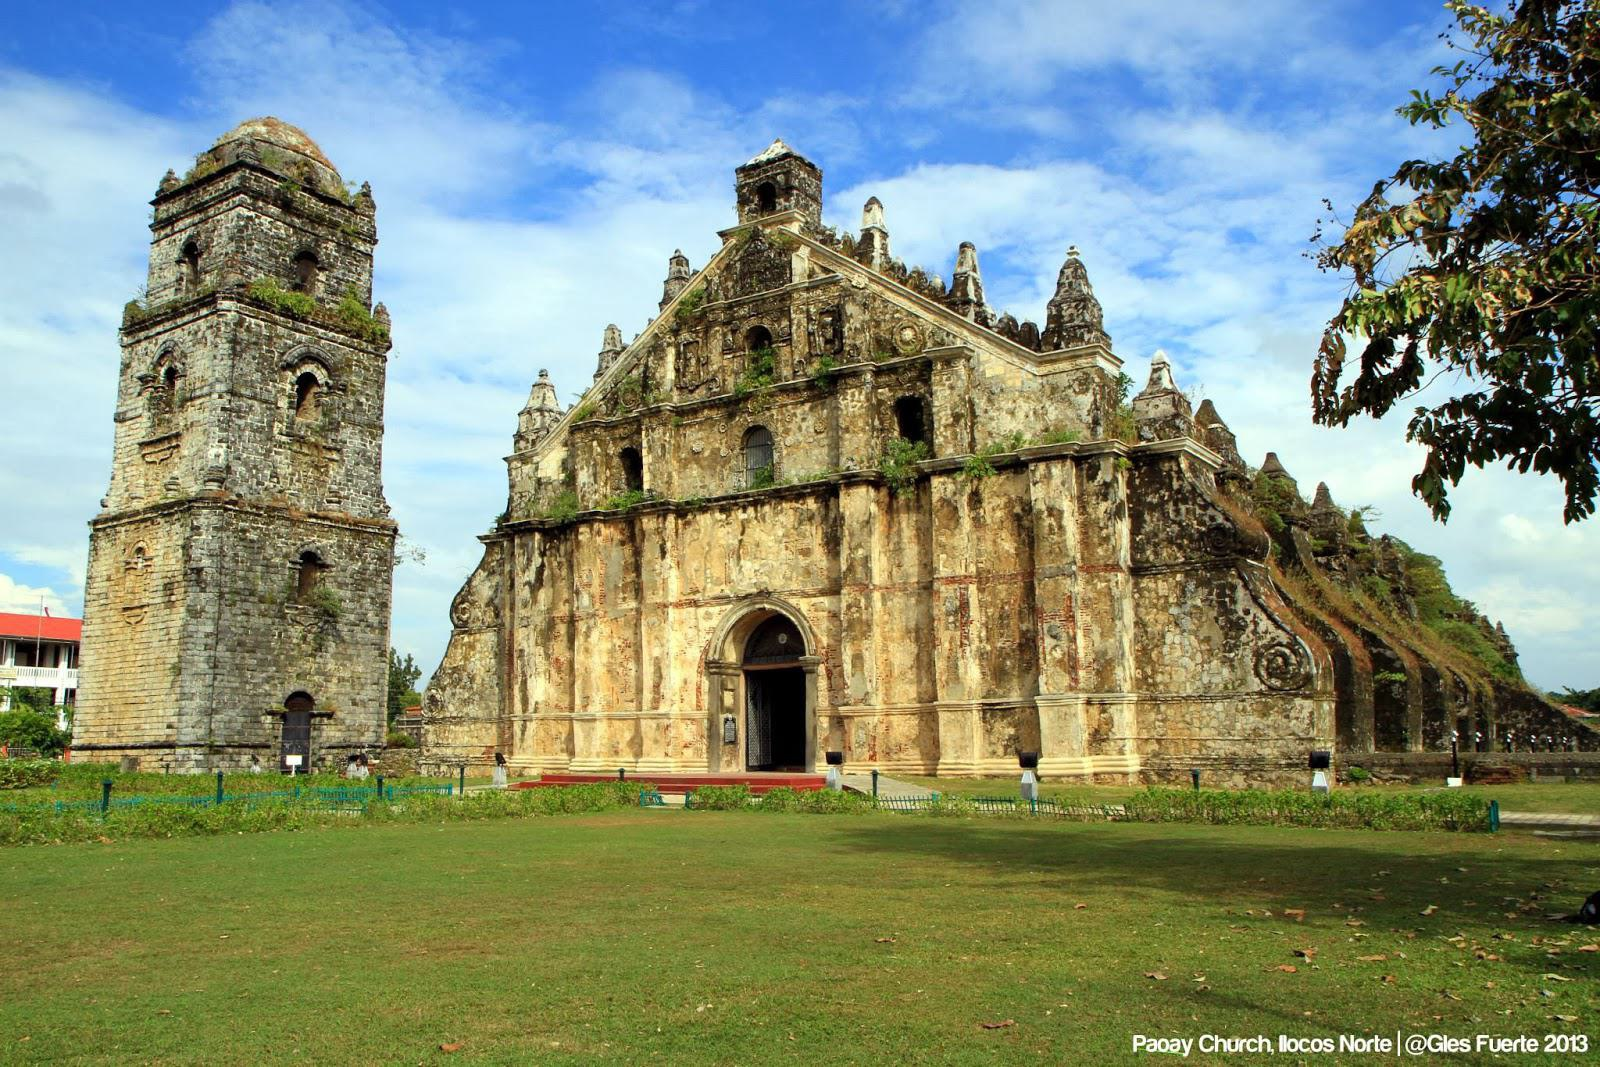paoay_church_paoay_ilocos_norte: (60, 93, 1361, 828)
vegetation_damage: (239, 272, 393, 338), (958, 413, 1065, 487), (518, 474, 674, 524), (876, 436, 933, 506), (730, 348, 788, 406)
